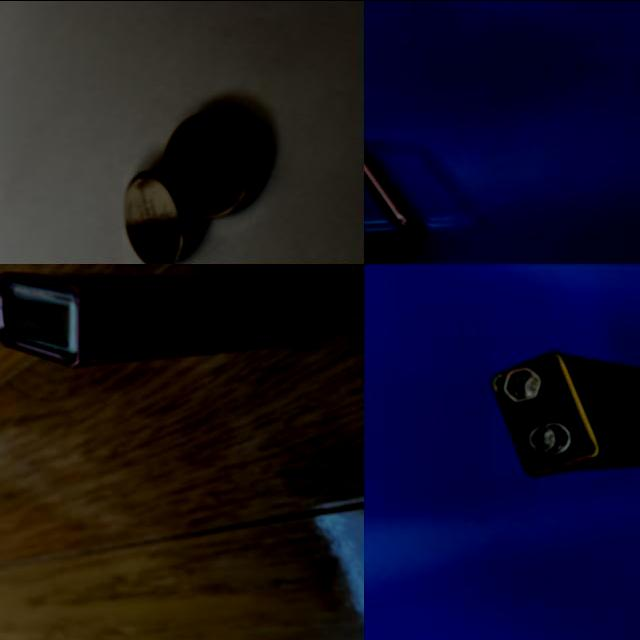9V: (0, 269, 294, 367), (492, 350, 640, 476)
